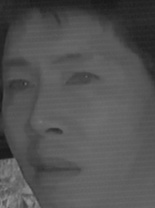eye: (65, 68, 100, 93), (5, 76, 33, 95)
mouth: (26, 149, 82, 185)
